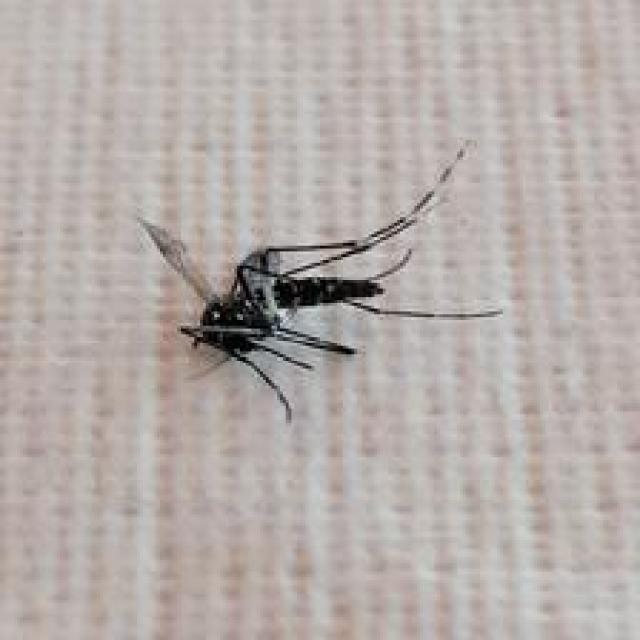Aedes albopictus: (134, 139, 503, 424)
